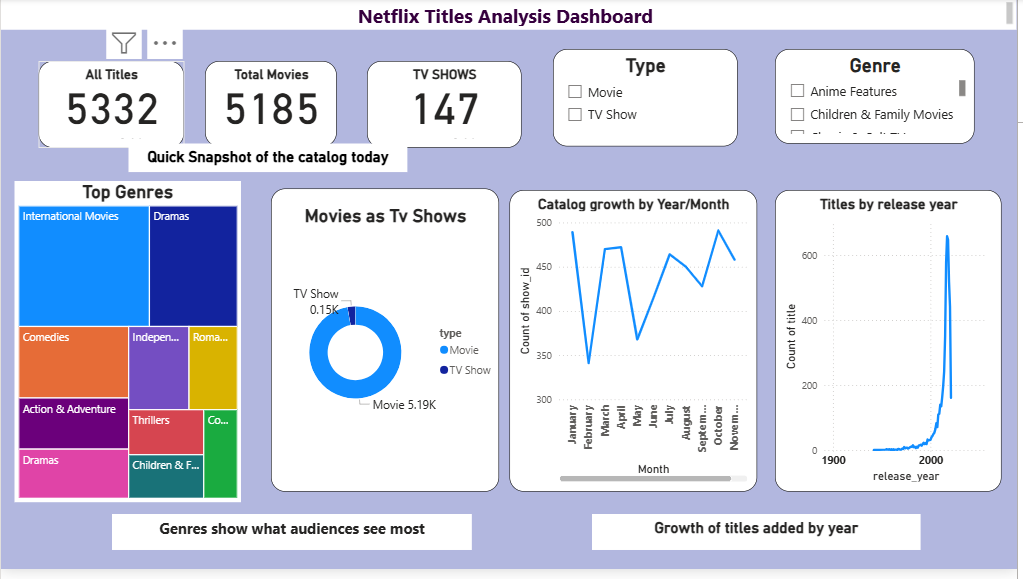

The page's visual inventory and layout, read from the dashboard file:
{"tool":"powerbi","page":{"name":"Page 1","canvas":[1280,720],"ordinal":0},"visuals":[{"type":"card","title":"All Titles","fields":{"Values":["Count(netflix_titles_cleaned.title)"]},"box":[47.2,79.4,183.3,109.6],"z":0},{"type":"card","title":"Total Movies","fields":{"Values":["Count(netflix_titles_cleaned.title)"]},"box":[257,79.4,166.3,107.7],"z":1000},{"type":"card","title":"TV SHOWS","fields":{"Values":["Count(netflix_titles_cleaned.title)"]},"box":[461.1,79.4,194.6,109.6],"z":2000},{"type":"donutChart","title":"Movies as Tv Shows","fields":{"Category":["netflix_titles_cleaned.type"],"Y":["Count(netflix_titles_cleaned.show_id)"]},"box":[340.2,240,287.2,381.7],"z":3000},{"type":"treemap","title":"Top Genres","fields":{"Group":["netflix_titles_cleaned.listed_in"],"Values":["Count(netflix_titles_cleaned.show_id)"]},"box":[17,230.6,285.4,404.4],"z":4000},{"type":"textbox","box":[160.6,183.3,351.5,35.9],"z":4001},{"type":"textbox","box":[139.8,650.1,453.5,45.4],"z":4002},{"type":"slicer","title":"Type","fields":{"Values":["netflix_titles_cleaned.type"]},"box":[695.4,64.3,232.4,122.8],"z":4003},{"type":"slicer","title":"Genre","fields":{"Values":["netflix_titles_cleaned.listed_in"]},"box":[975.1,64.3,251.3,119.1],"z":4004},{"type":"lineChart","title":"Catalog growth by Year/Month","fields":{"Y":["Count(netflix_titles_cleaned.show_id)"],"Category":["netflix_titles_cleaned.date_added.Variation.Date Hierarchy.Year","netflix_titles_cleaned.date_added.Variation.Date Hierarchy.Month"]},"box":[640.6,241.9,311.8,379.8],"z":4005},{"type":"lineChart","title":"Titles by release year","fields":{"Y":["Count(netflix_titles_cleaned.title)"],"Category":["netflix_titles_cleaned.release_year"]},"box":[975.1,241.9,285.4,379.8],"z":4006},{"type":"textbox","box":[744.6,650.1,413.9,45.4],"z":4007},{"type":"textbox","box":[0,0,1279.4,39.7],"z":4008}]}

Visuals, with their boxes in screenshot pixels (x1, y1, x2, y2), scaled from the page's 1280x720 canvas onto the 1023x579 screenshot:
"All Titles" card: crop(38, 64, 184, 152)
"Total Movies" card: crop(205, 64, 338, 150)
"TV SHOWS" card: crop(369, 64, 524, 152)
"Movies as Tv Shows" donutChart: crop(272, 193, 501, 500)
"Top Genres" treemap: crop(14, 185, 242, 511)
textbox: crop(128, 147, 409, 176)
textbox: crop(112, 523, 474, 559)
"Type" slicer: crop(556, 52, 742, 150)
"Genre" slicer: crop(779, 52, 980, 147)
"Catalog growth by Year/Month" lineChart: crop(512, 195, 761, 500)
"Titles by release year" lineChart: crop(779, 195, 1007, 500)
textbox: crop(595, 523, 926, 559)
textbox: crop(0, 0, 1022, 32)
